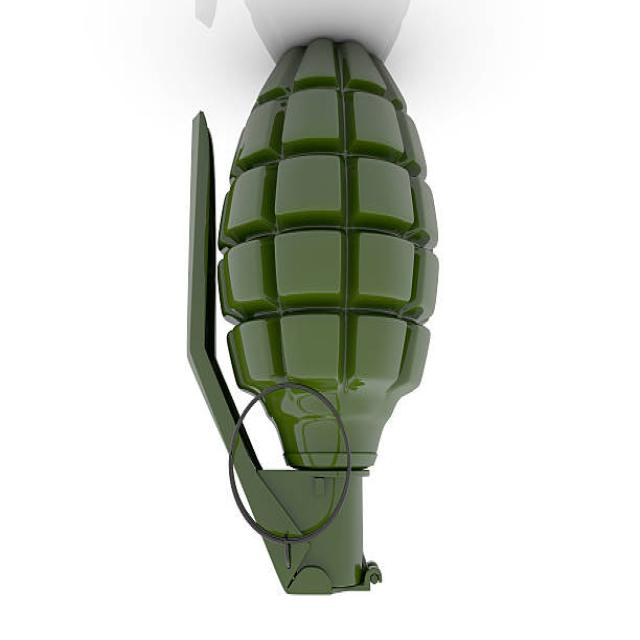grenade: (182, 32, 438, 597)
